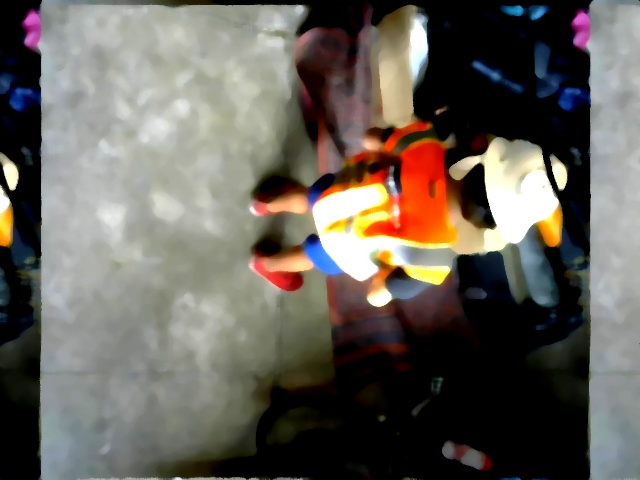one: (519, 170, 554, 210)
